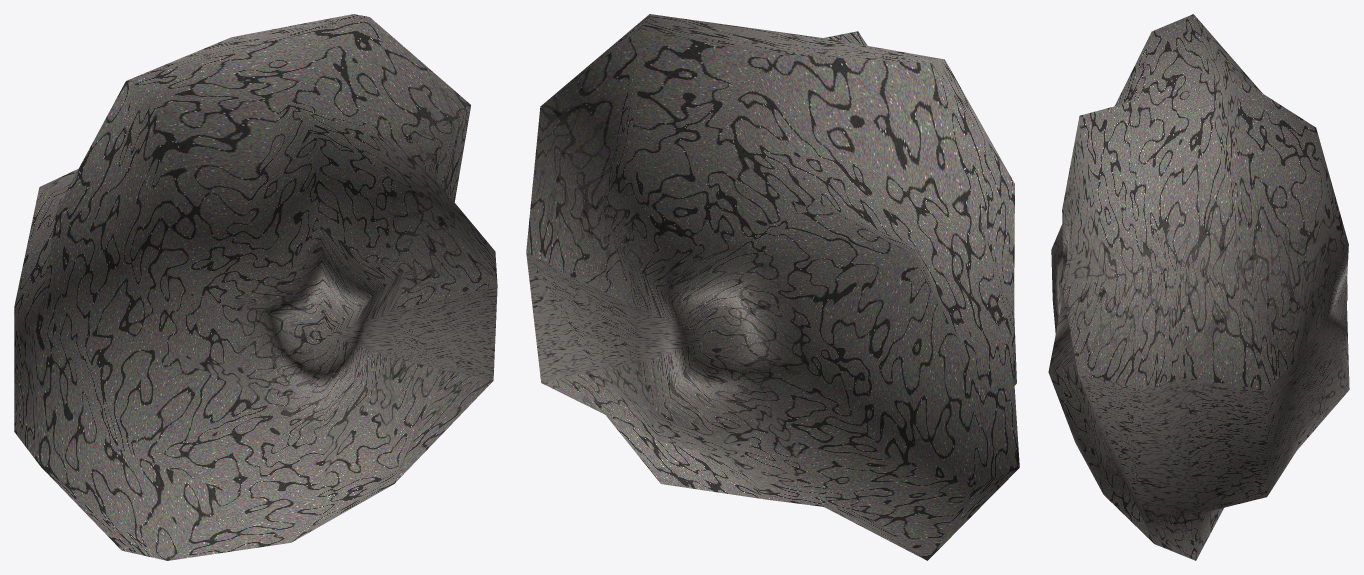
Rendered from boulder.obj.
3 renders of one model, left to right at view 1: azimuth 30°, elevation 25°; view 2: azimuth 150°, elevation 25°; view 3: azimuth 270°, elevation 25°, orthographic. The views are drawn at different scales.
Size of the model in its own units: 1.42 by 1.47 by 0.915.
1 material, 1 textured.
